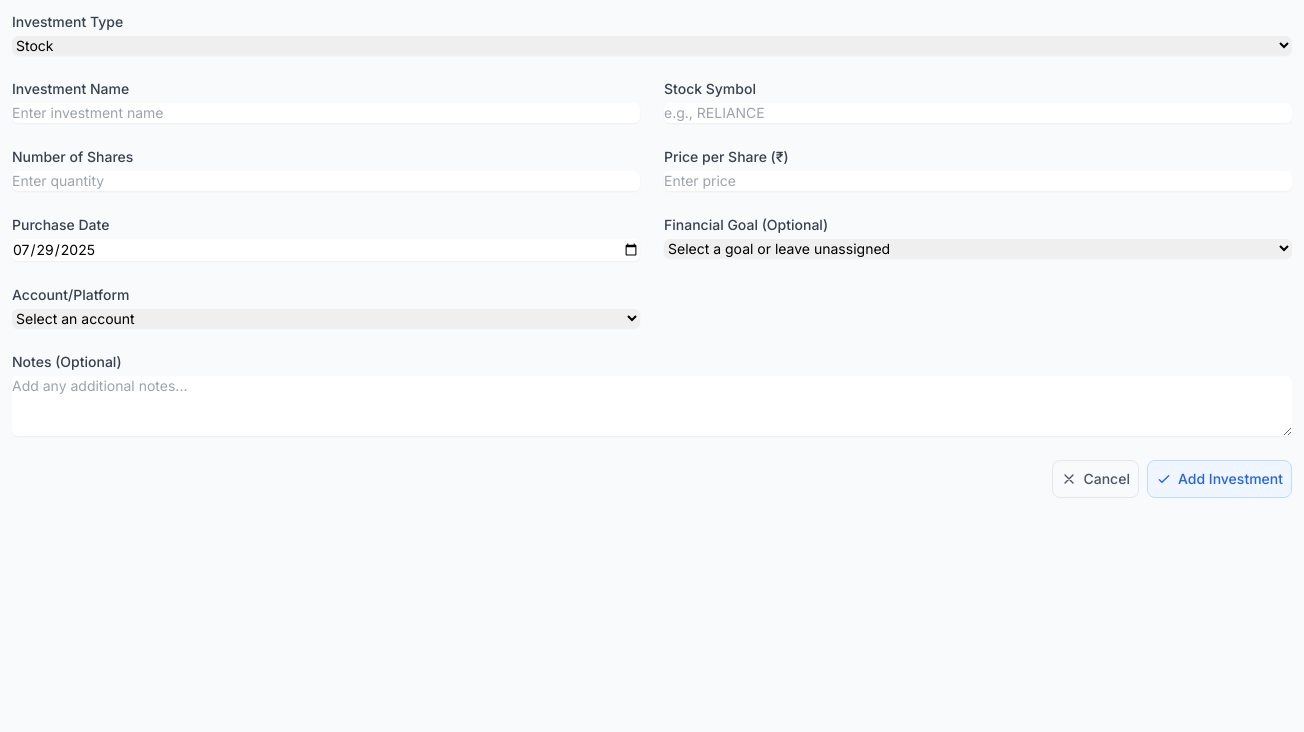
it: InvestmentForm › Calculated Values Display › updates calculated total when values change
Note: Initial values
Type "10" into the number field labelled "Number of Shares".
click(326, 181); type("10")  # box 12,171 -> 640,191
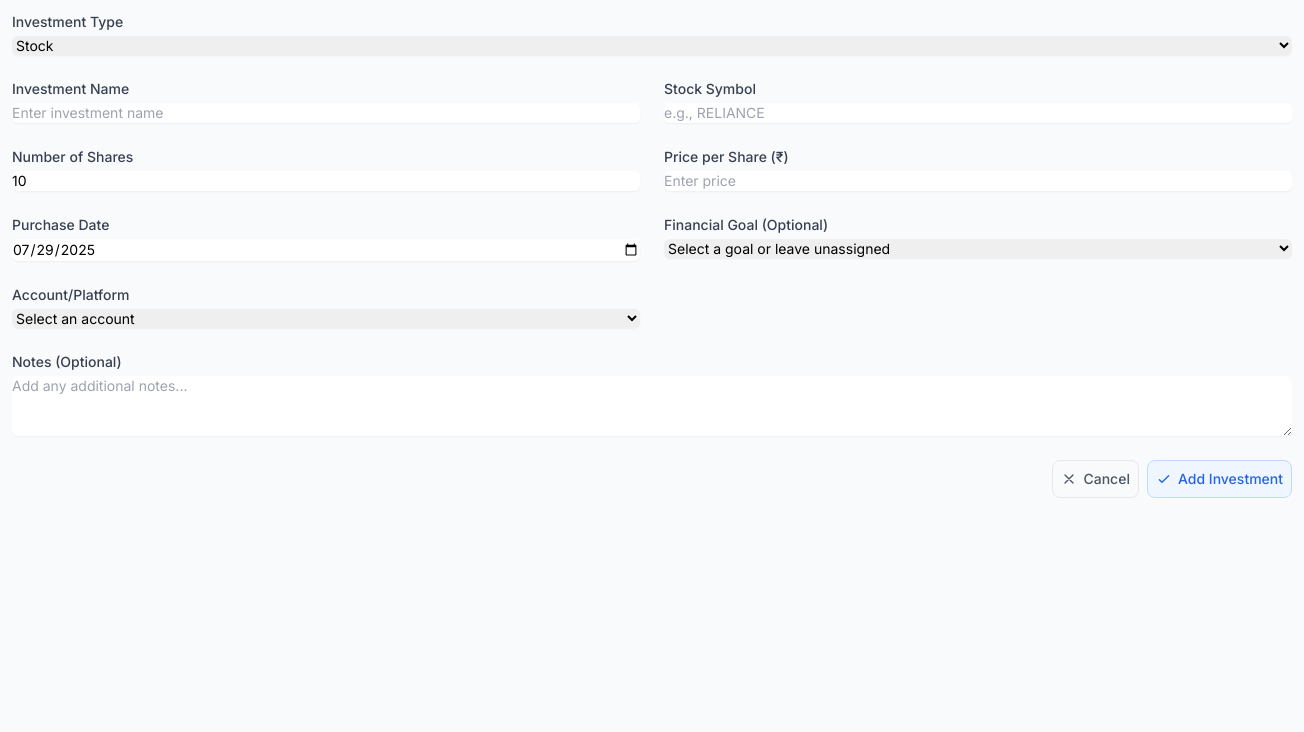
Type "2500" into the number field labelled "Price per Share (₹)".
click(978, 181); type("2500")  # box 664,171 -> 1292,191
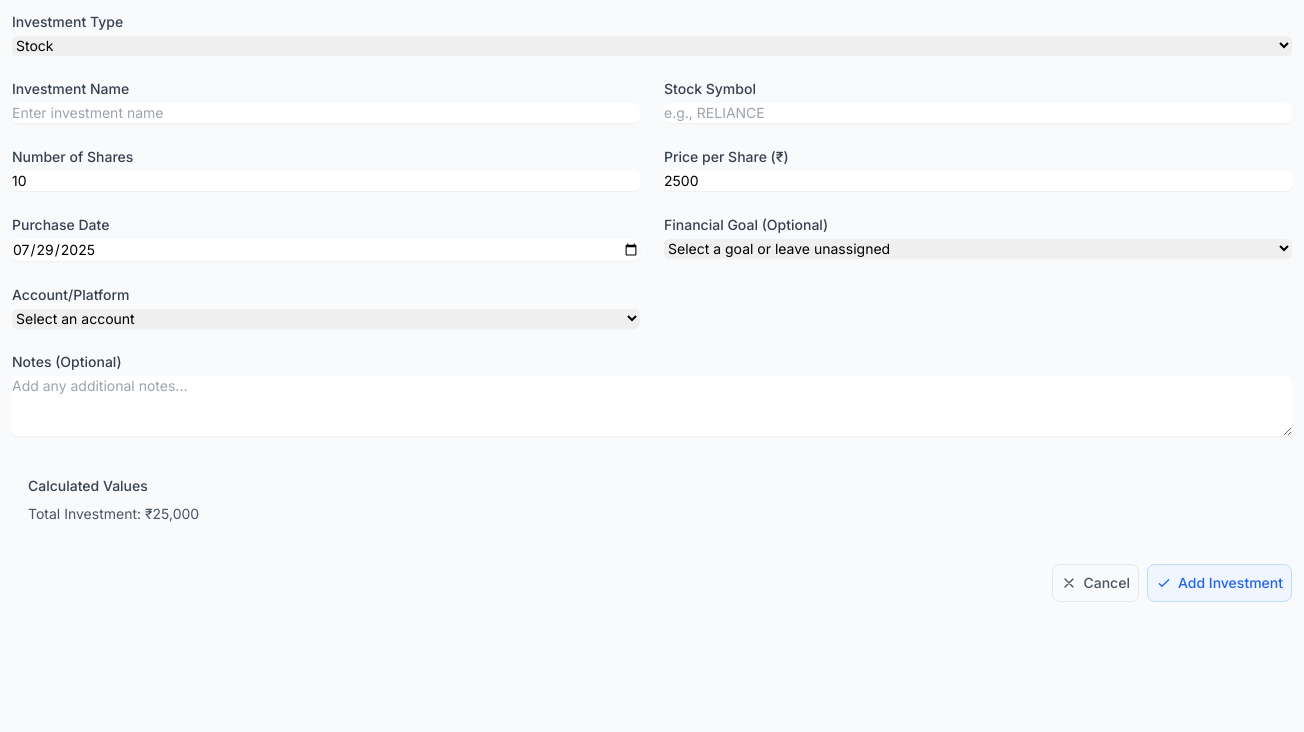
Check: the text "Total Investment: ₹25,000" is shown, box 28,505 -> 199,522
Note: Change units
Replace the text in the number field labelled "Number of Shares" with "20" at (326, 181), box 12,171 -> 640,191
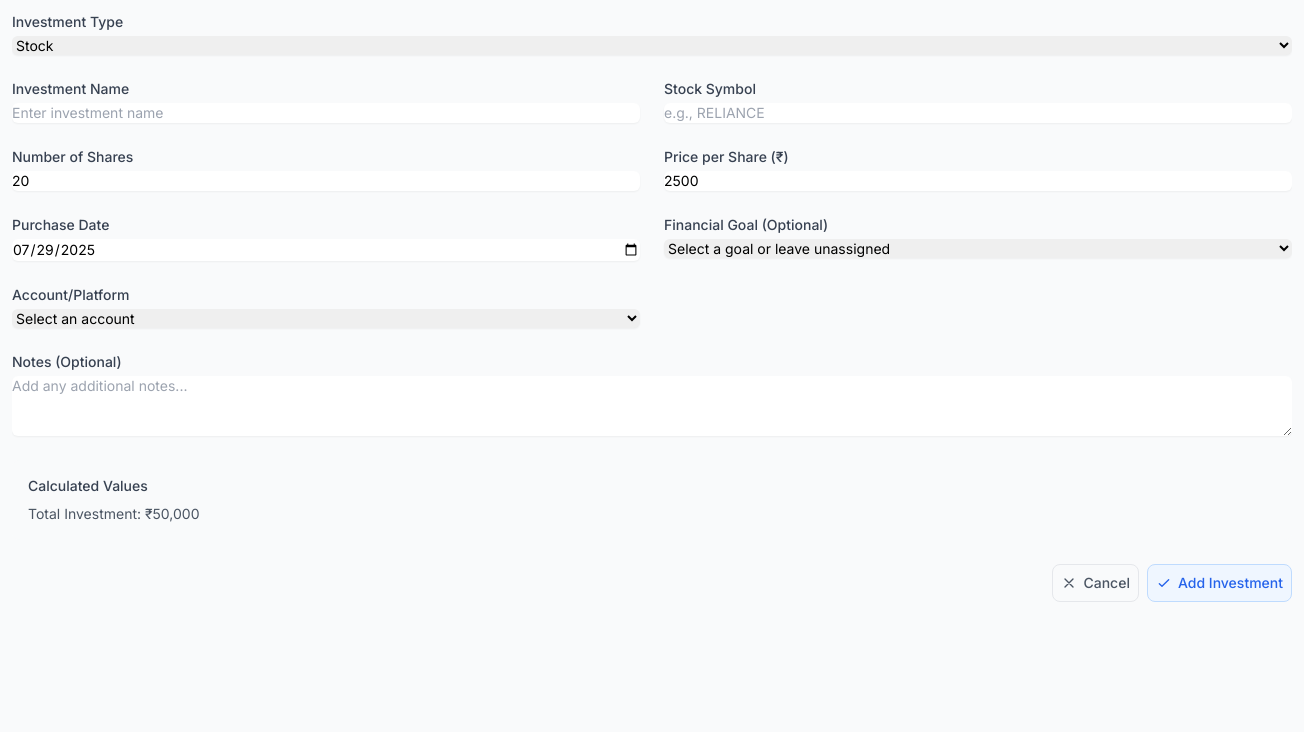
Check: the text "Total Investment: ₹50,000" is shown, box 28,505 -> 200,522
